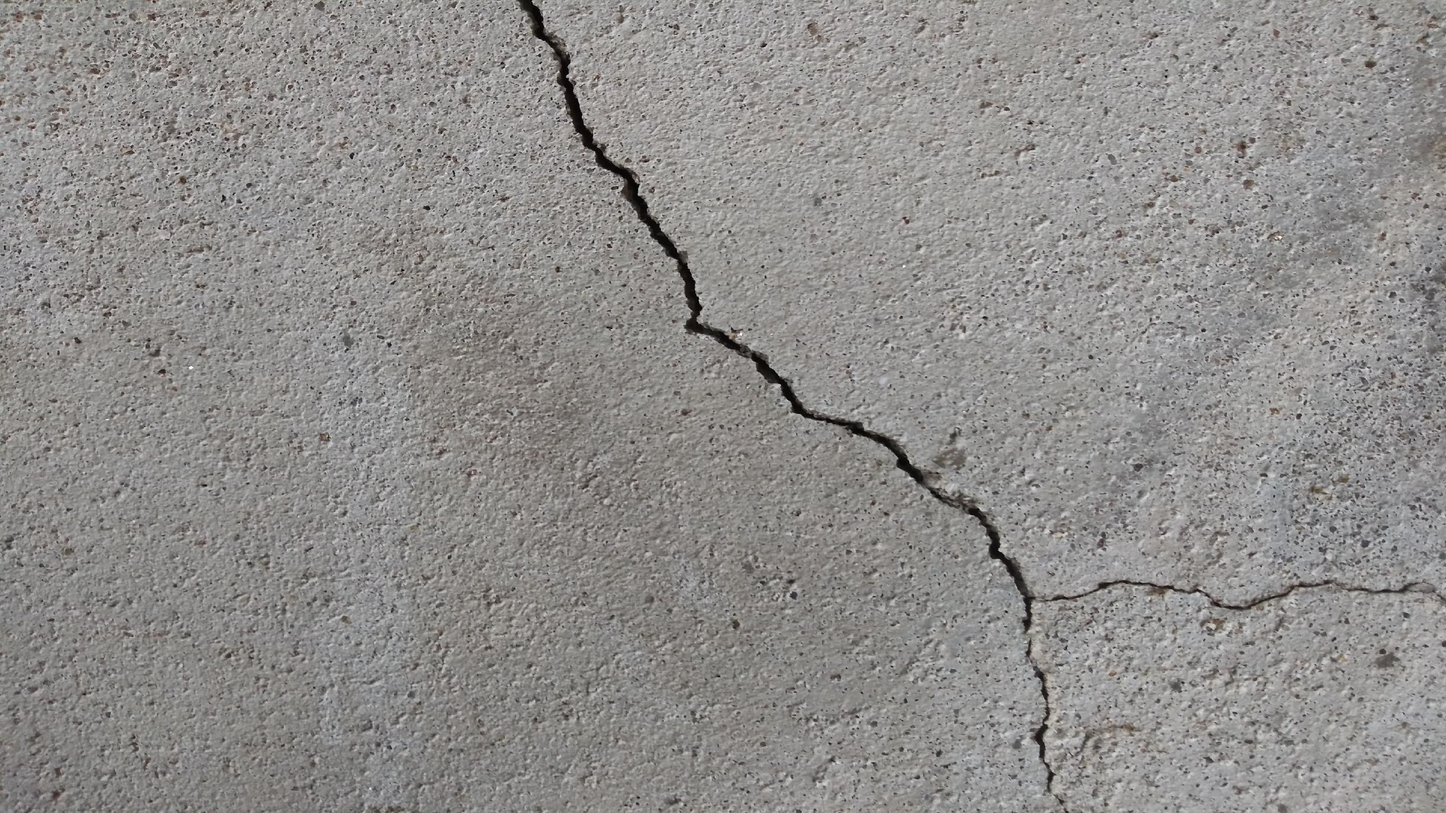crack: (518, 1, 1425, 811)
